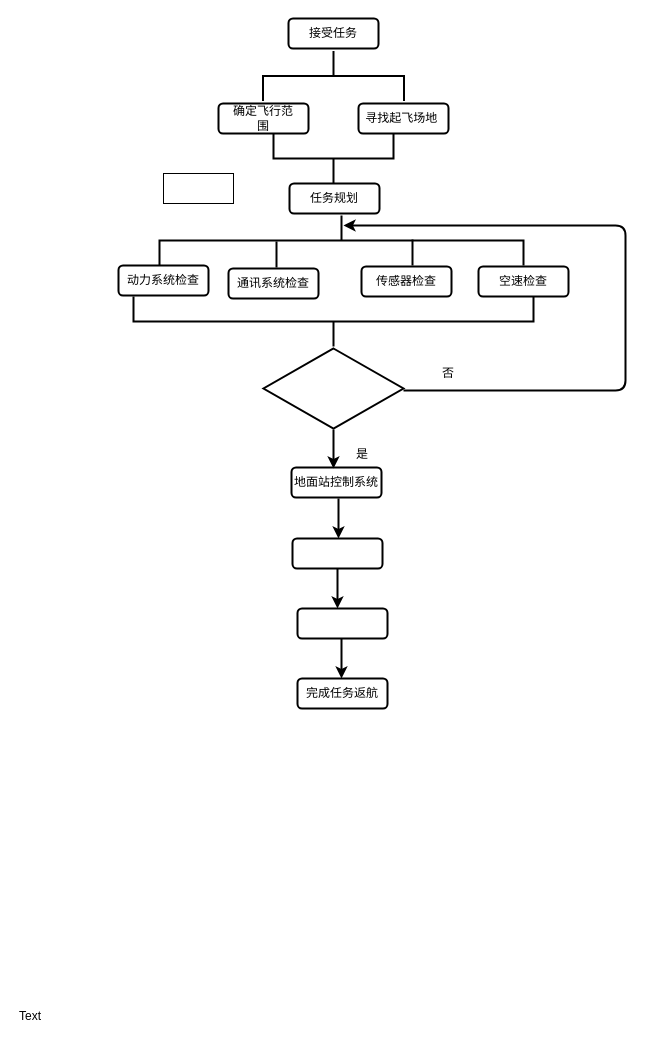
Some shapes in this 651 by 1043 pixel diagram are drawn without their labels. Each missing label, with the centre of its shape:
"基本控制" goes at (198,188).
"数据资料下载" goes at (342,623).
"无人机起飞" goes at (337,553).
"起飞状态判断" goes at (333,388).
